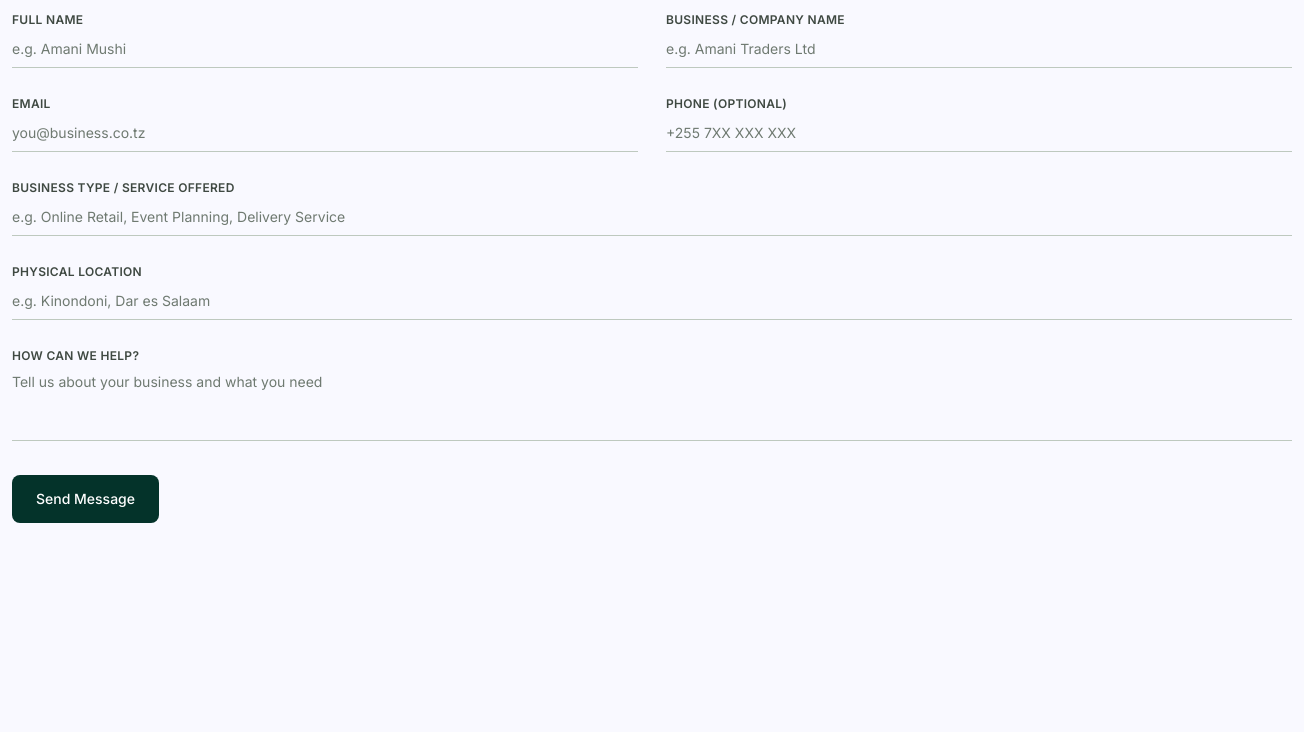
Test: ContactForm › shows an error with the info@ fallback address when the request fails
Type "Amani" into the field with placeholder "e.g. Amani Mushi" at (325, 54), box left=12, top=39, right=638, bottom=68
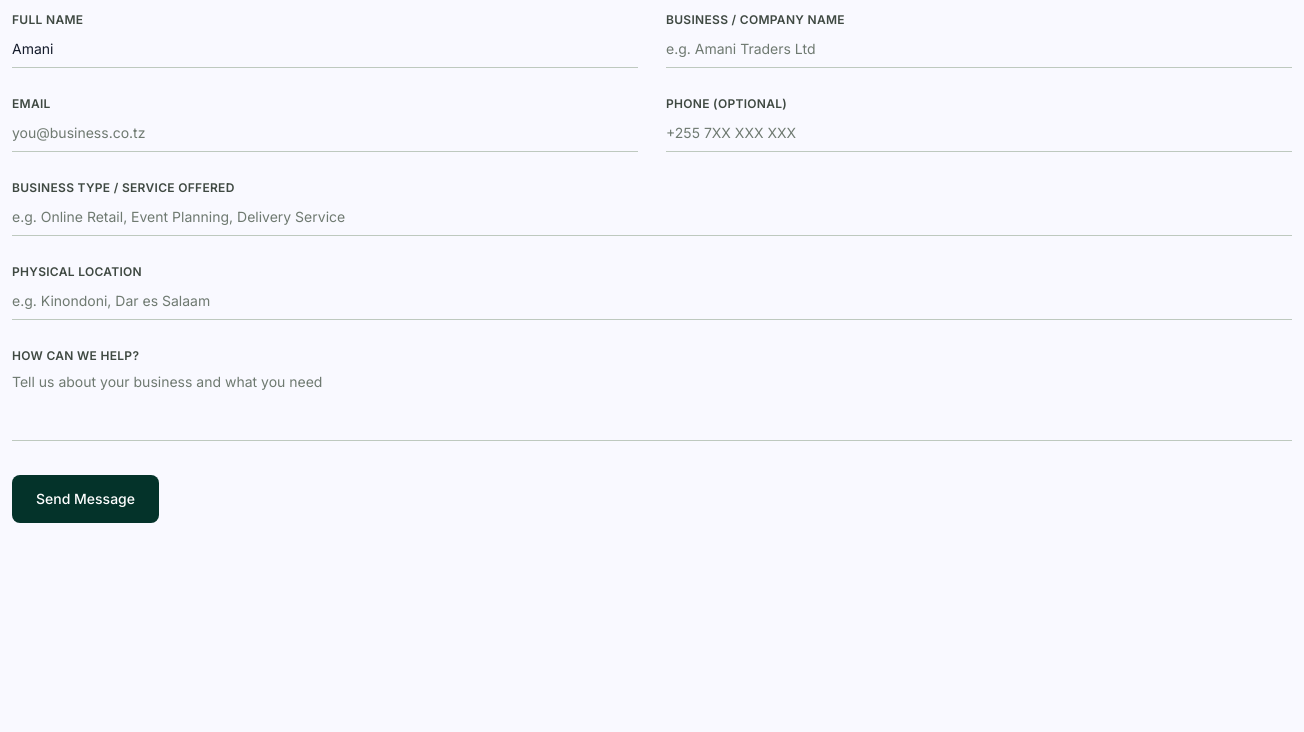
Type "amani@example.com" into the field with placeholder "you@business.co.tz" at (325, 138), box left=12, top=123, right=638, bottom=152
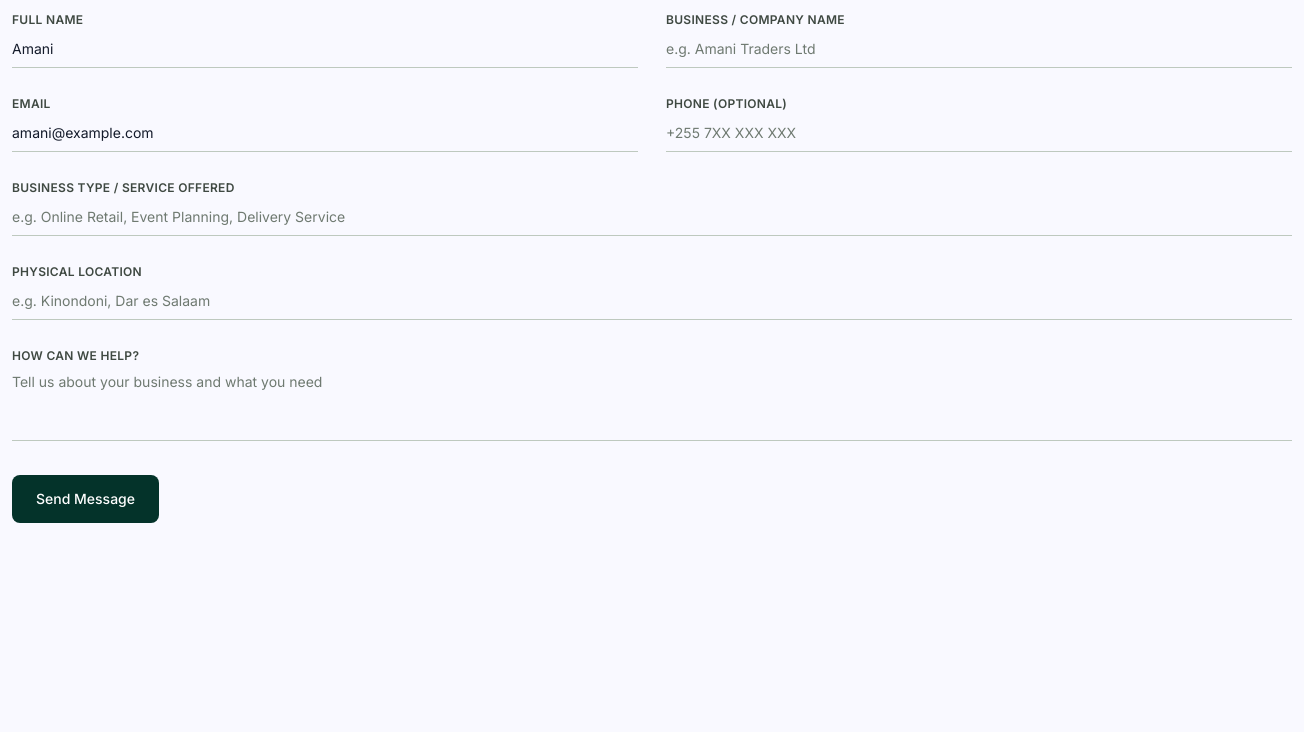
Type "Hello" into the text box with placeholder "Tell us about your business and what you need" at (652, 406), box left=12, top=372, right=1292, bottom=441
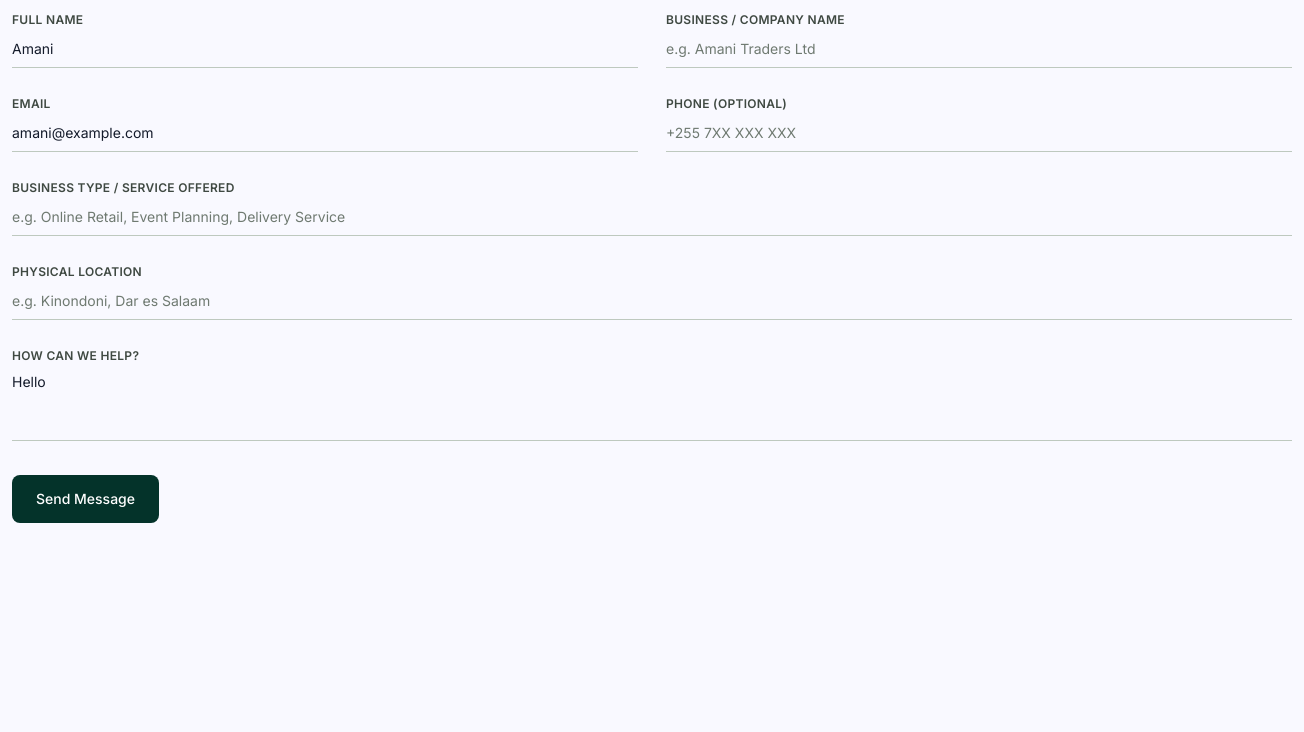
Click the button "Send Message" at (86, 499), box left=12, top=475, right=159, bottom=523
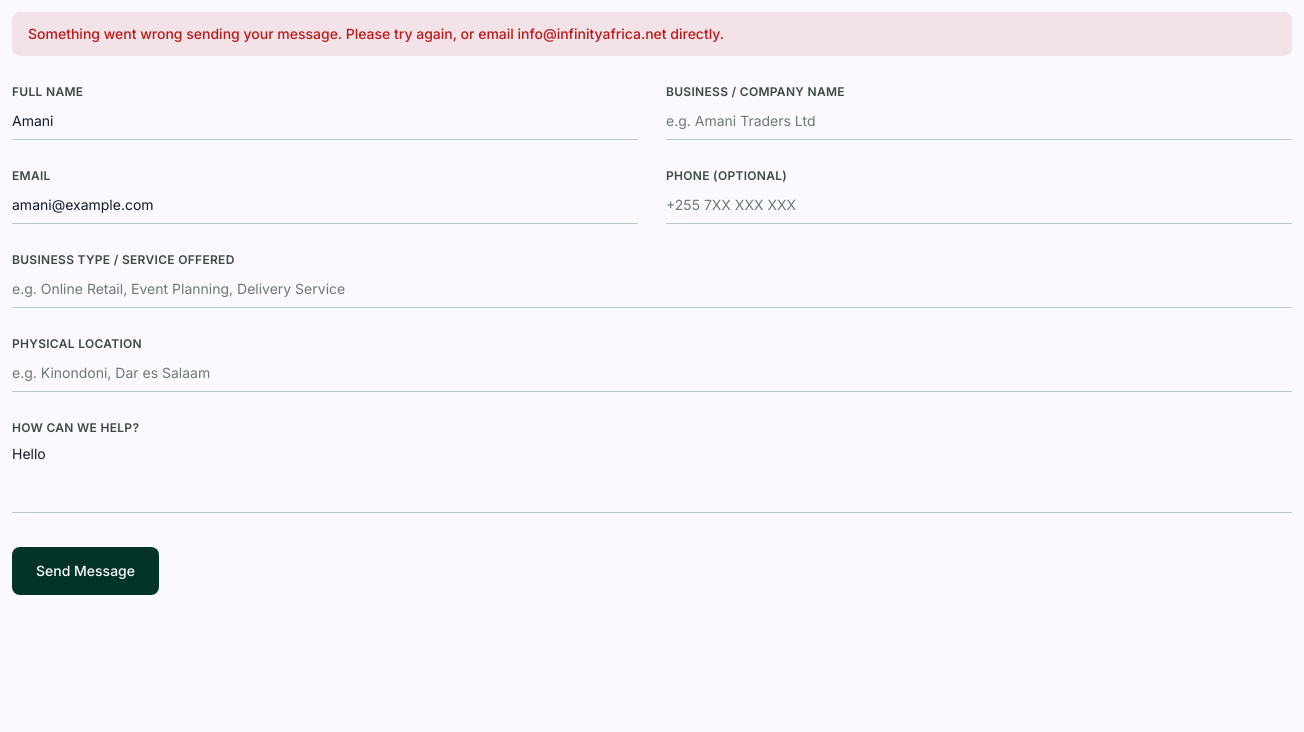
Expected: the text "info@infinityafrica.net" is shown, left=28, top=25, right=724, bottom=42
